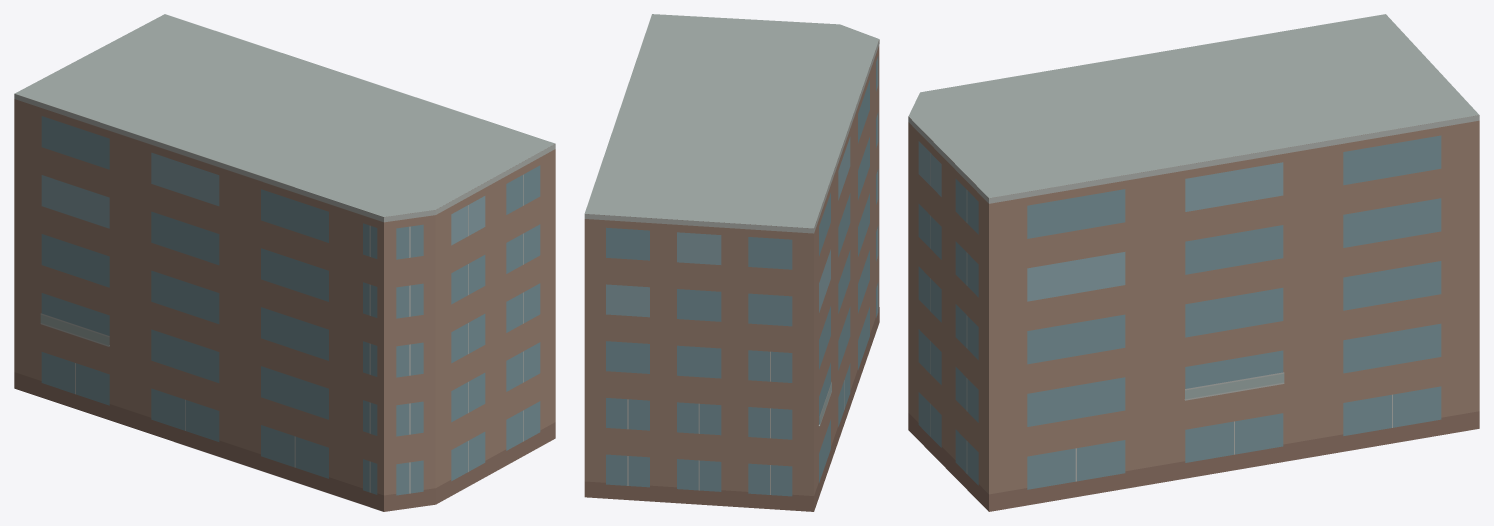
The model's file is survey-upis-32679451.glb.
3 views of the same model, side by side, from view 1: azimuth 30°, elevation 25°; view 2: azimuth 150°, elevation 25°; view 3: azimuth 270°, elevation 25° (orthographic). The views are drawn at different scales.
Visible parts, largest first — view 1: survey-upis-32679451.tmp; view 2: survey-upis-32679451.tmp; view 3: survey-upis-32679451.tmp.
Part boxes in pixels (bbox=[...]): survey-upis-32679451.tmp: bbox=[14, 14, 555, 511]; survey-upis-32679451.tmp: bbox=[584, 14, 879, 511]; survey-upis-32679451.tmp: bbox=[908, 14, 1479, 511].
Size of the model in its own units: 17.27 by 13.7 by 22.62.
